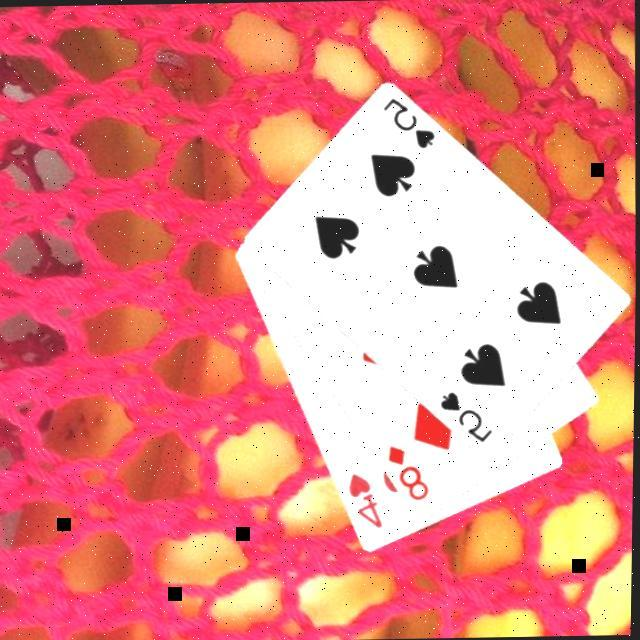4H: (342, 466, 387, 531)
5S: (377, 92, 439, 151), (434, 386, 496, 444)
8D: (382, 439, 432, 504)
